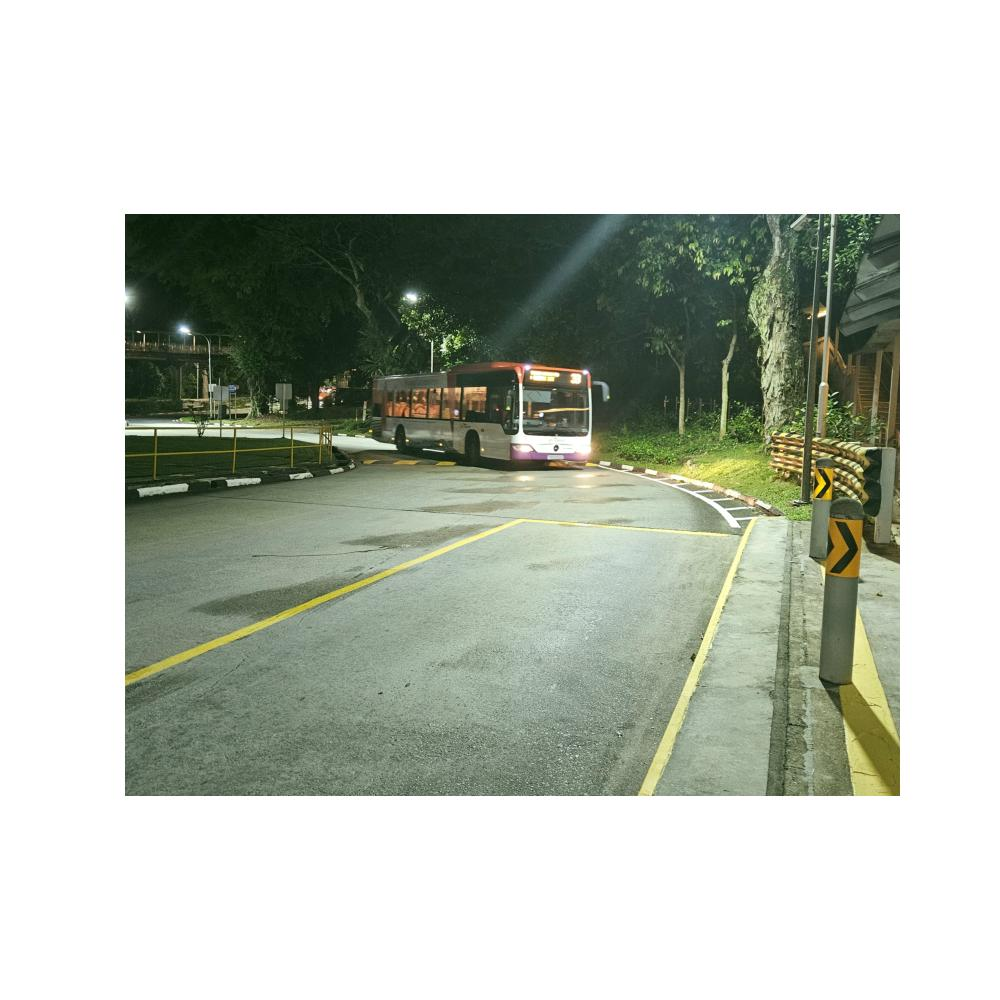bus: (370, 360, 600, 468)
